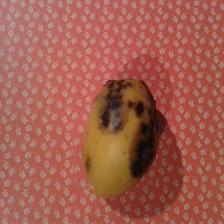Mango Rotten: (69, 81, 157, 191)
